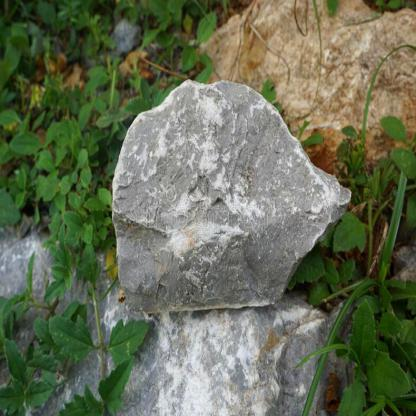Sedimentary_Limestone: (110, 68, 347, 312)
